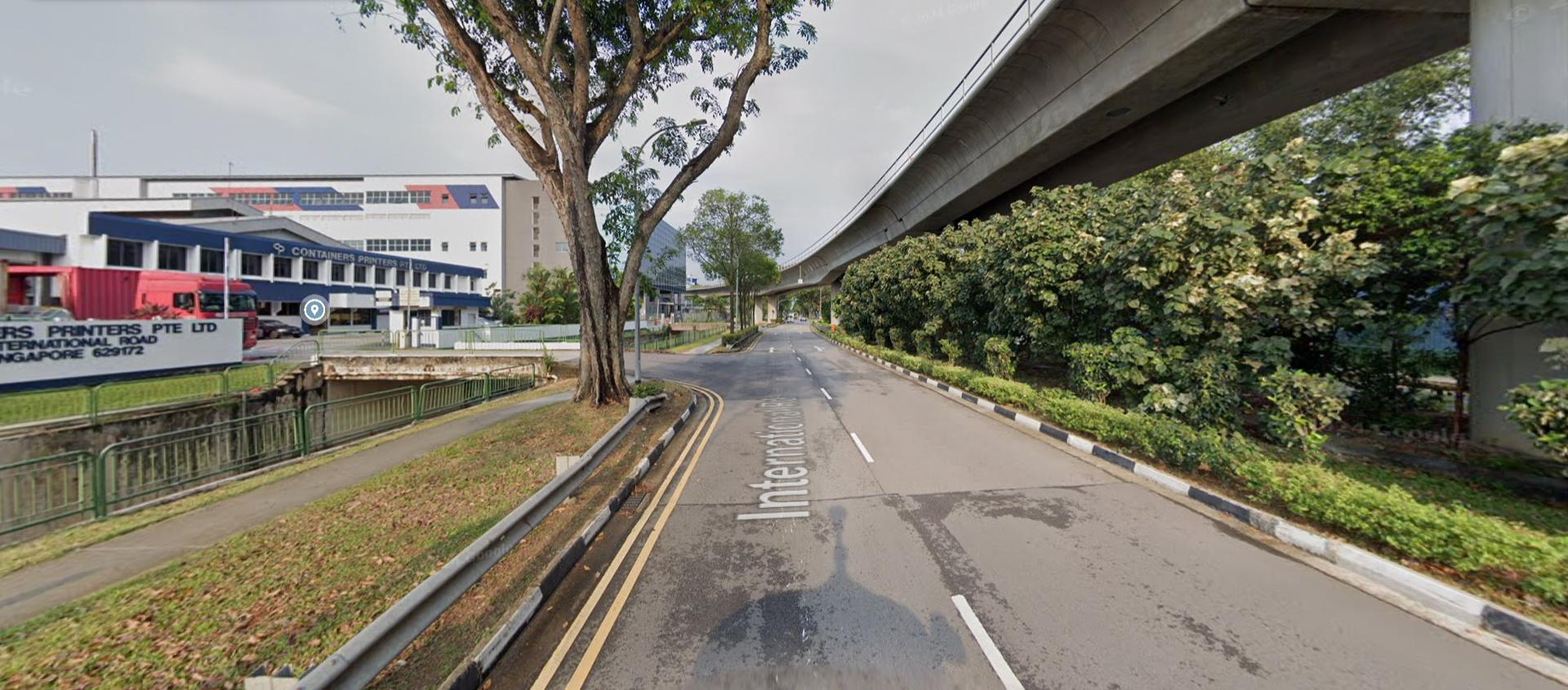defect: (618, 491, 649, 515)
